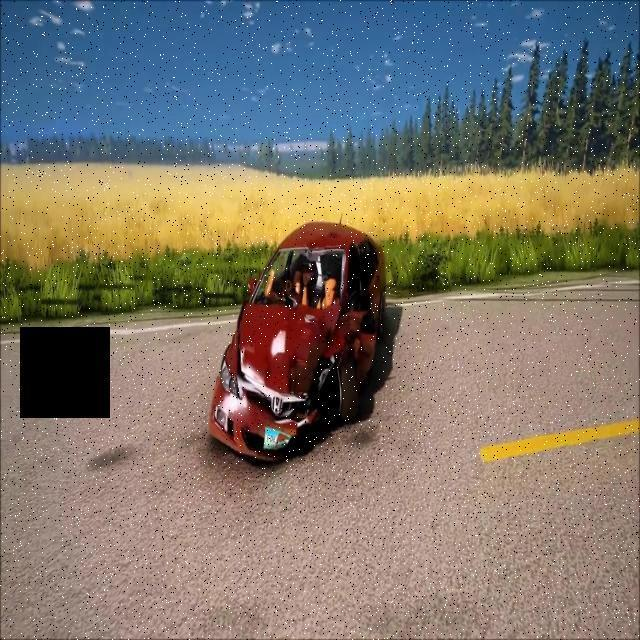vehicle: (182, 208, 442, 476)
